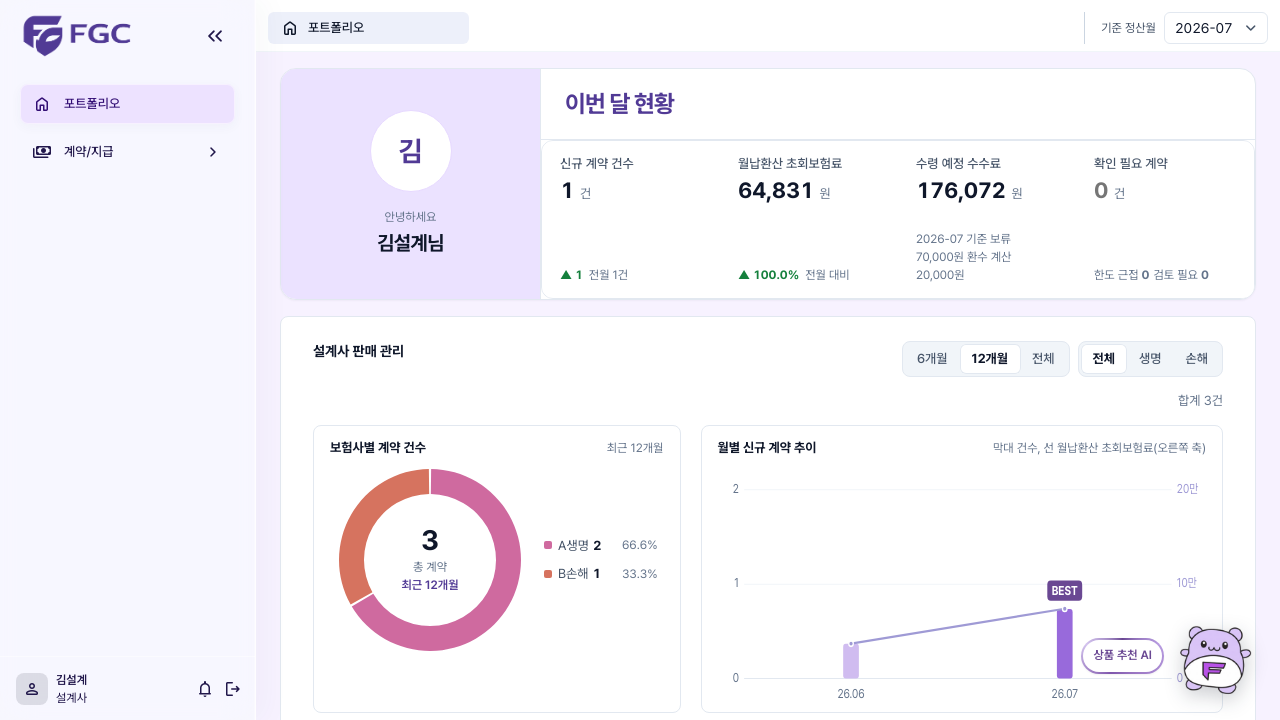
Test: AGNT-W01 포트폴리오 › 보험사 집계 조회가 실패하면 오류와 다시 시도를 보여 준다
Step 1. Click the button "B손해1 33.3%" → x=601, y=574, box [538, 560, 664, 588]
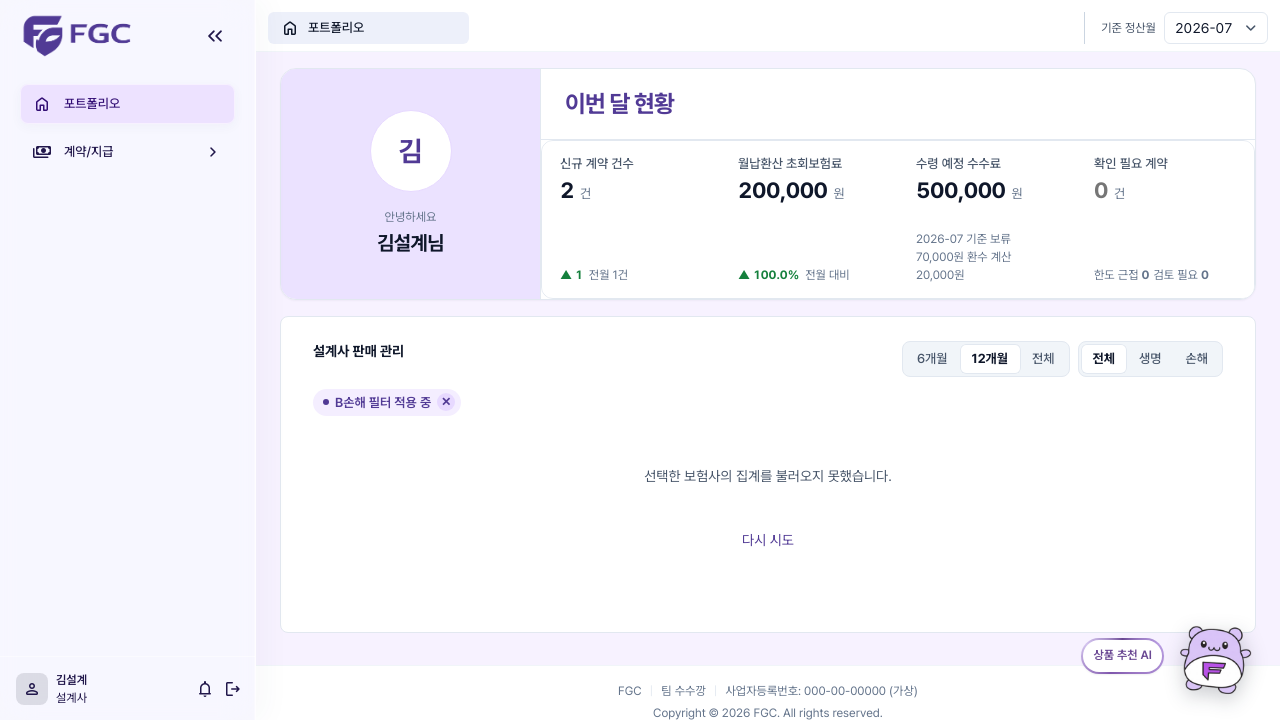
Check: the message shows "선택한 보험사의 집계를 불러오지 못했습니다.", box [644, 468, 892, 484]
Check: the button "다시 시도" is shown, box [720, 522, 816, 558]
